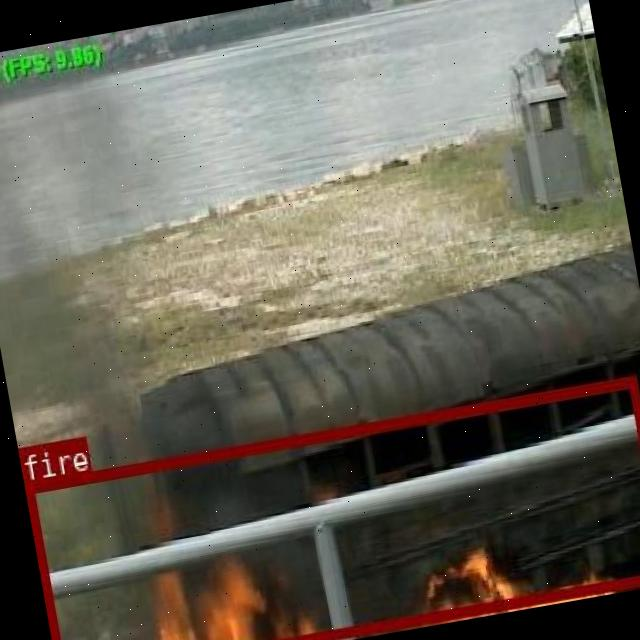fire: (24, 374, 640, 640)
